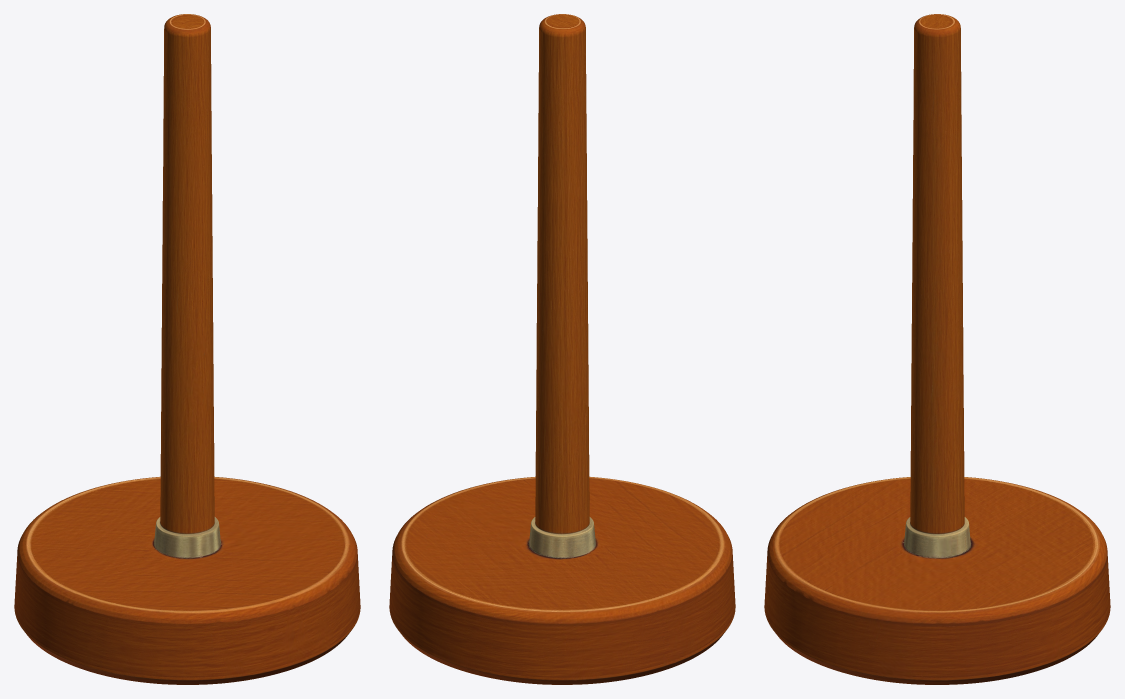
Rendered from ring-stand.glb.
3 renders of one model, left to right at view 1: azimuth 30°, elevation 25°; view 2: azimuth 150°, elevation 25°; view 3: azimuth 270°, elevation 25°, orthographic.
Bounding box in the file's own units: 0.0635 × 0.12 × 0.0635.
Materials: 1 (1 with a texture image).
